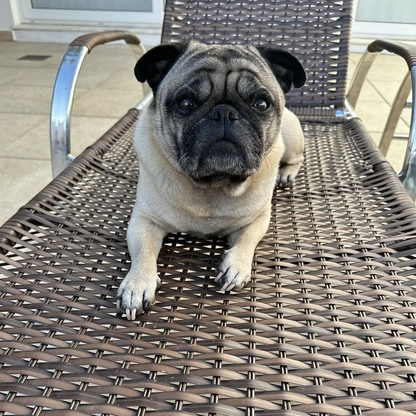Pug: (113, 36, 308, 324)
